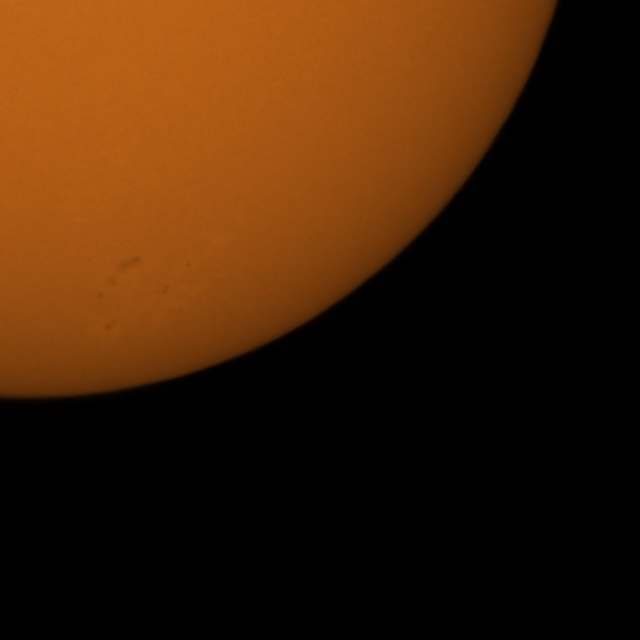sunspot: (104, 320, 115, 333), (161, 283, 171, 296)
